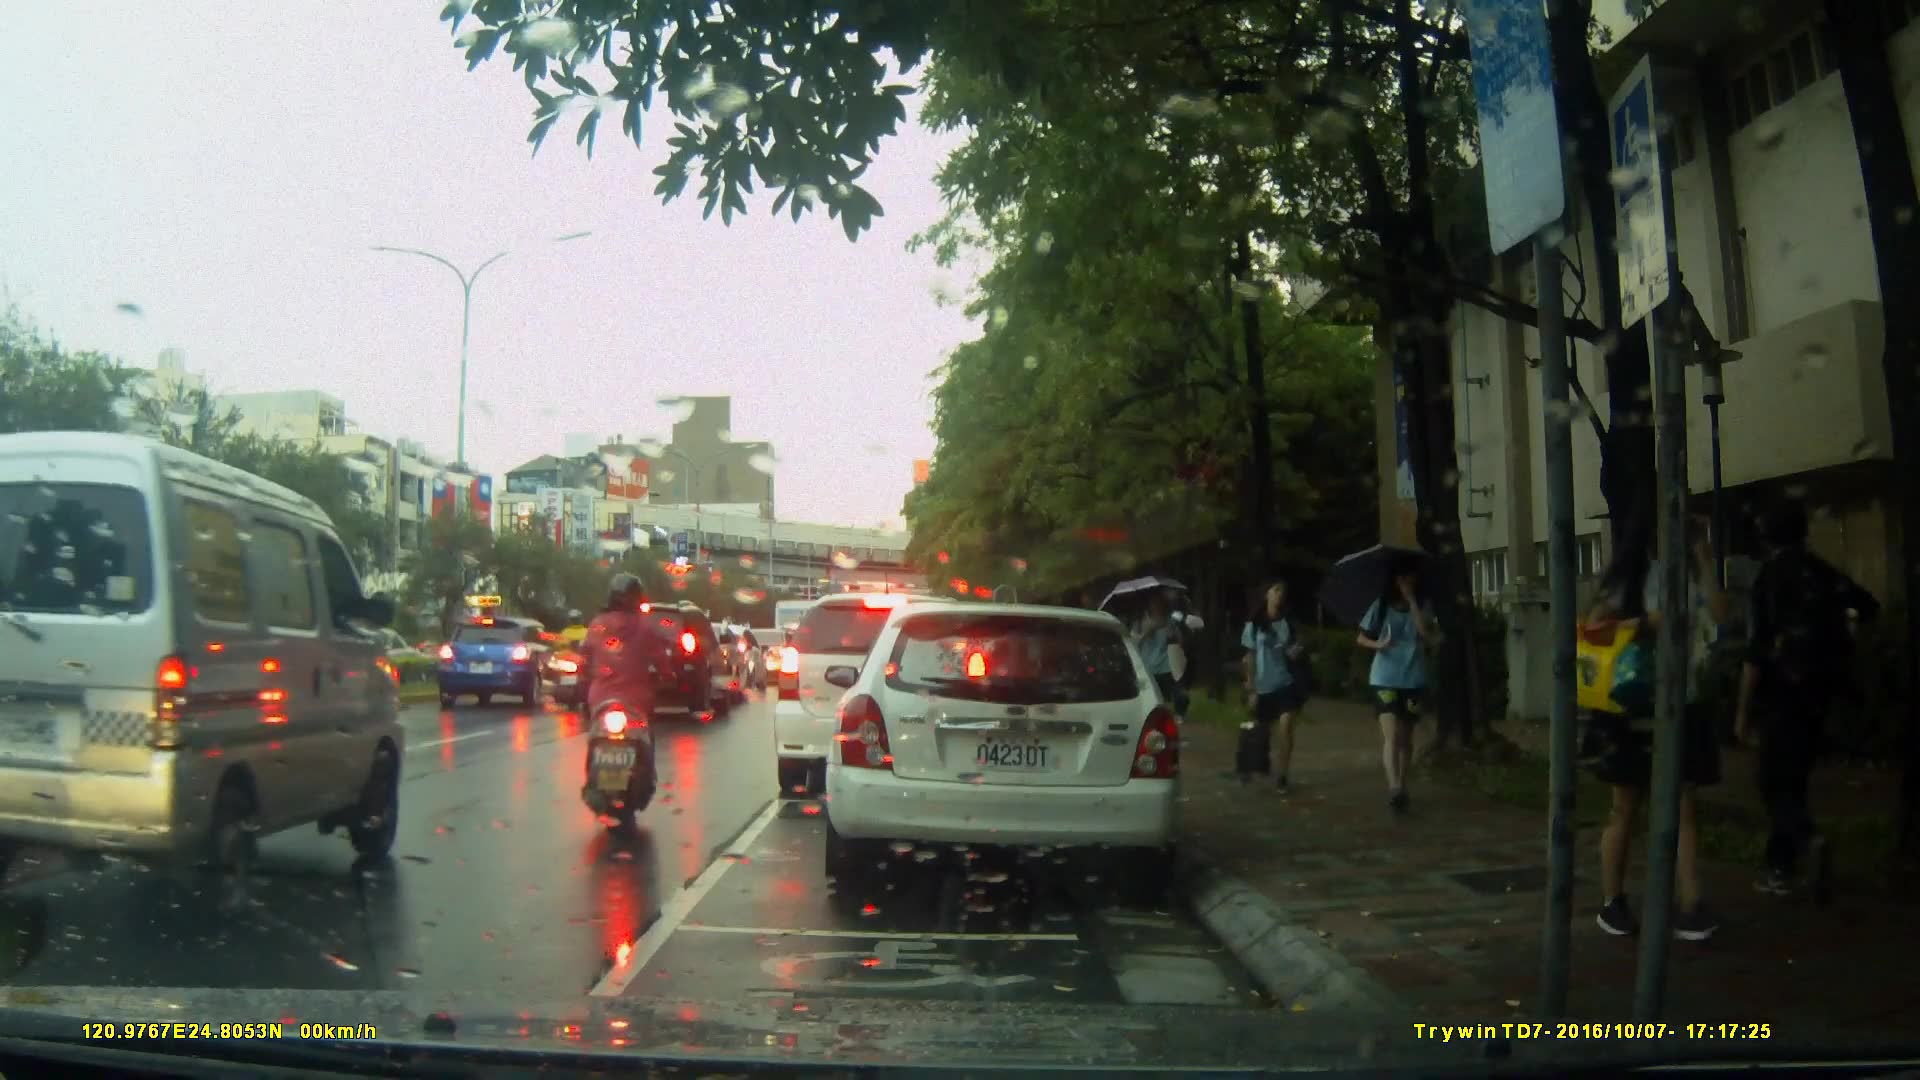pedestrian: (1599, 464, 1736, 942), (1743, 492, 1855, 914), (1343, 549, 1442, 817), (1225, 569, 1307, 792), (1130, 588, 1191, 736)
rider: (568, 567, 661, 830), (557, 607, 597, 701)
vehicle: (2, 426, 407, 936), (815, 593, 1204, 909), (771, 590, 994, 802), (573, 602, 736, 725), (437, 617, 575, 709)
